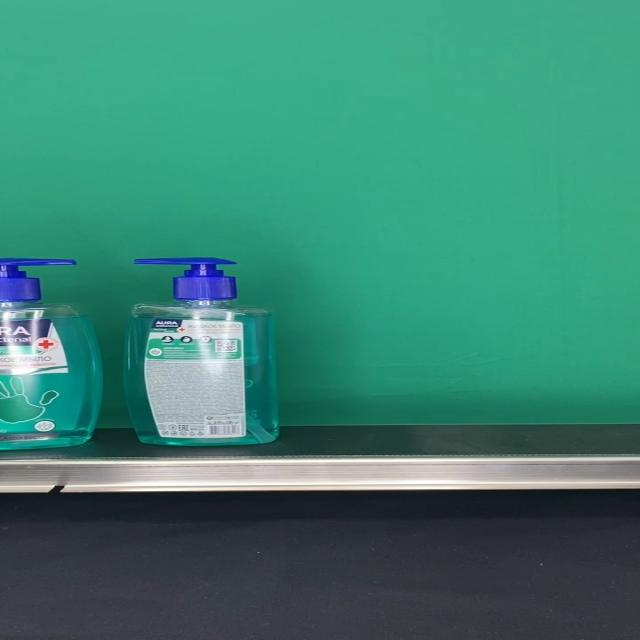Bottle: (124, 258, 279, 447)
Cap: (134, 258, 237, 300)
